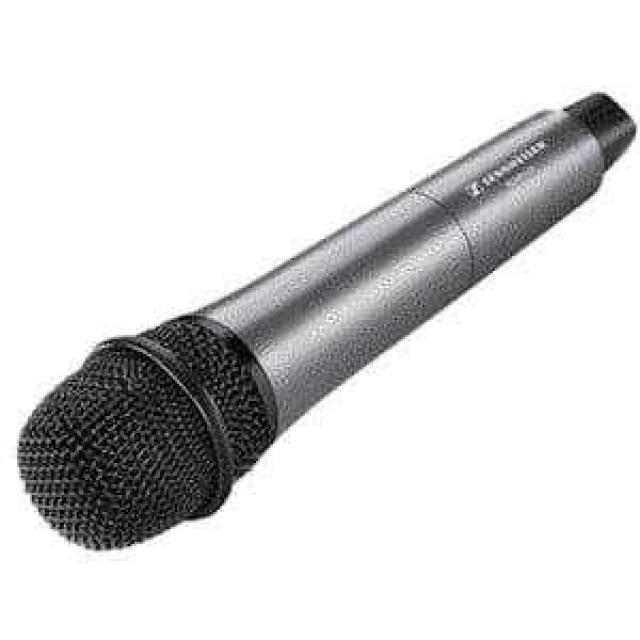microphone: (20, 93, 618, 556)
